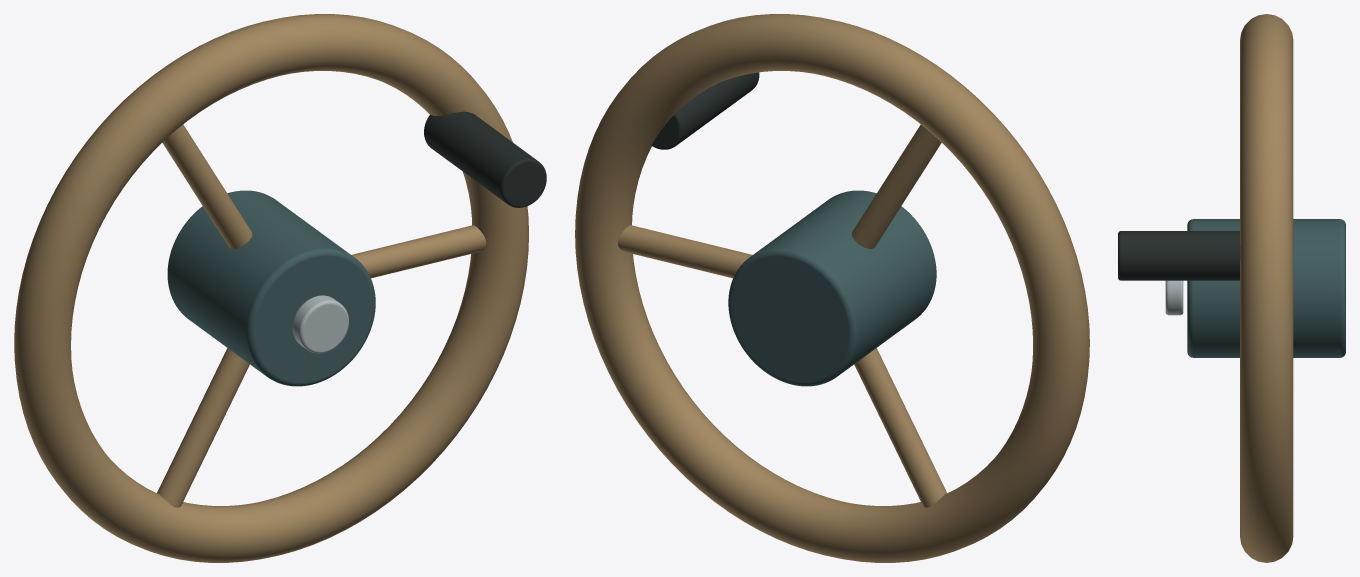
Rendered from survey_wheel.glb.
3 views of the same model, side by side, from view 1: azimuth 30°, elevation 25°; view 2: azimuth 150°, elevation 25°; view 3: azimuth 270°, elevation 25° (orthographic). The views are drawn at different scales.
Parts seen in each view (by area): view 1: Brass handwheel, Axle hub, Rotation grip, Cast spoke.002, Cast spoke.001, Cast spoke, Center nut; view 2: Brass handwheel, Axle hub, Cast spoke.002, Cast spoke.001, Cast spoke, Rotation grip; view 3: Brass handwheel, Axle hub, Rotation grip, Center nut.
Part boxes in pixels (x1=…): Brass handwheel: x1=14, y1=14, x2=528, y2=562; Axle hub: x1=167, y1=190, x2=375, y2=386; Rotation grip: x1=424, y1=111, x2=546, y2=207; Cast spoke.002: x1=157, y1=348, x2=249, y2=507; Cast spoke.001: x1=162, y1=124, x2=252, y2=248; Cast spoke: x1=351, y1=225, x2=486, y2=278; Center nut: x1=292, y1=295, x2=348, y2=353; Brass handwheel: x1=575, y1=14, x2=1089, y2=562; Axle hub: x1=728, y1=190, x2=936, y2=386; Cast spoke.002: x1=854, y1=348, x2=946, y2=507; Cast spoke.001: x1=851, y1=124, x2=941, y2=248; Cast spoke: x1=618, y1=225, x2=752, y2=278; Rotation grip: x1=651, y1=72, x2=759, y2=149; Brass handwheel: x1=1240, y1=14, x2=1293, y2=562; Axle hub: x1=1187, y1=219, x2=1345, y2=357; Rotation grip: x1=1118, y1=231, x2=1240, y2=280; Center nut: x1=1165, y1=280, x2=1183, y2=315.
Bounding box in the file's own units: 0.554 × 0.554 × 0.23.
